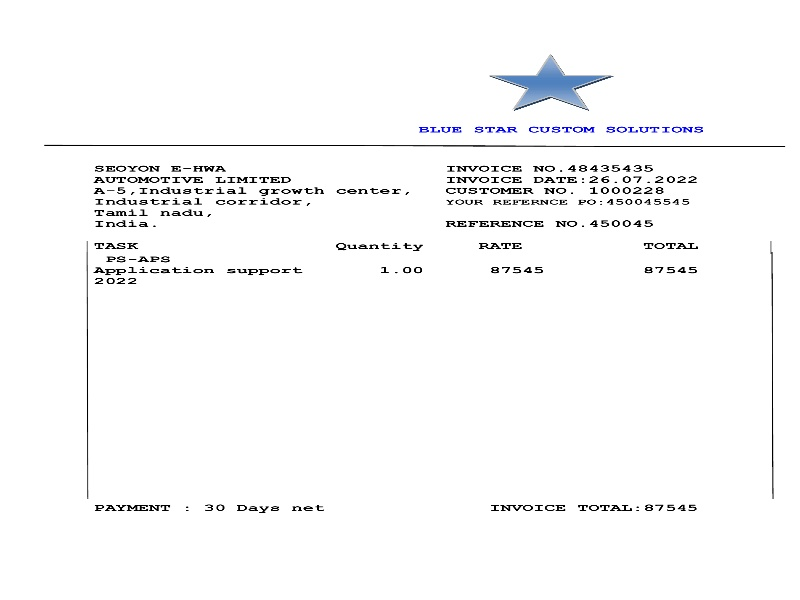Bordered: (88, 236, 770, 499)
